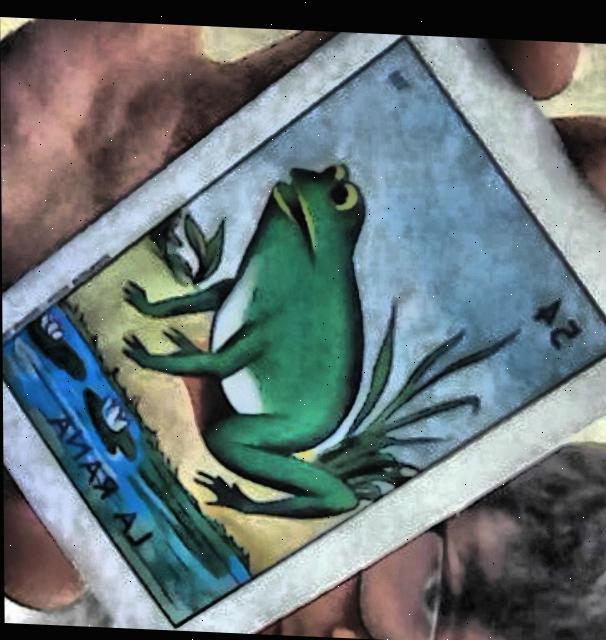La Rana: (2, 32, 606, 626)
